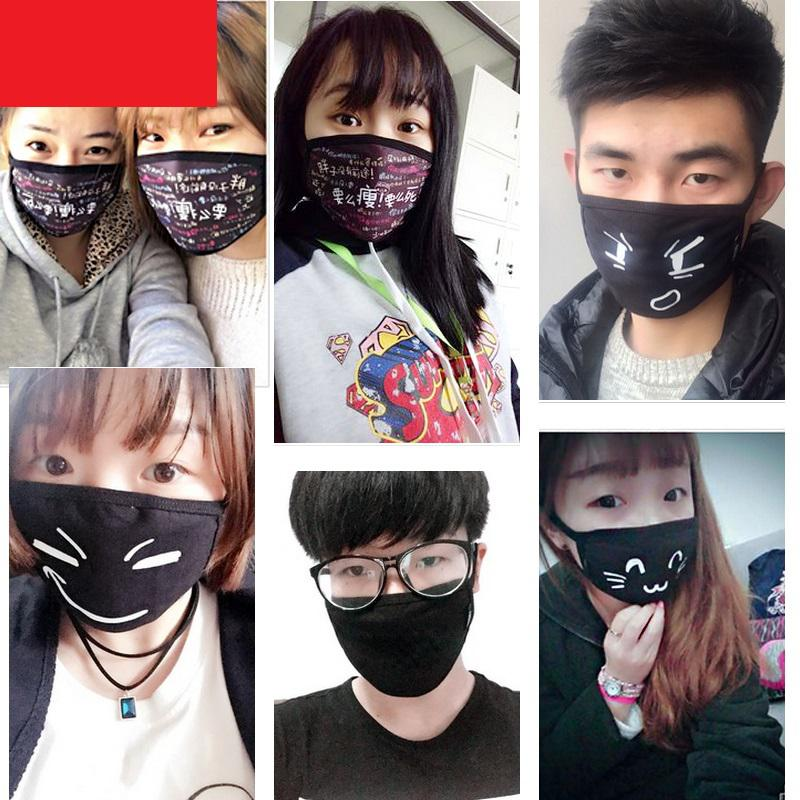OK: (14, 410, 236, 632), (585, 132, 761, 308), (318, 517, 493, 692), (136, 98, 288, 250), (308, 74, 436, 230), (564, 449, 700, 593), (13, 115, 127, 229)
